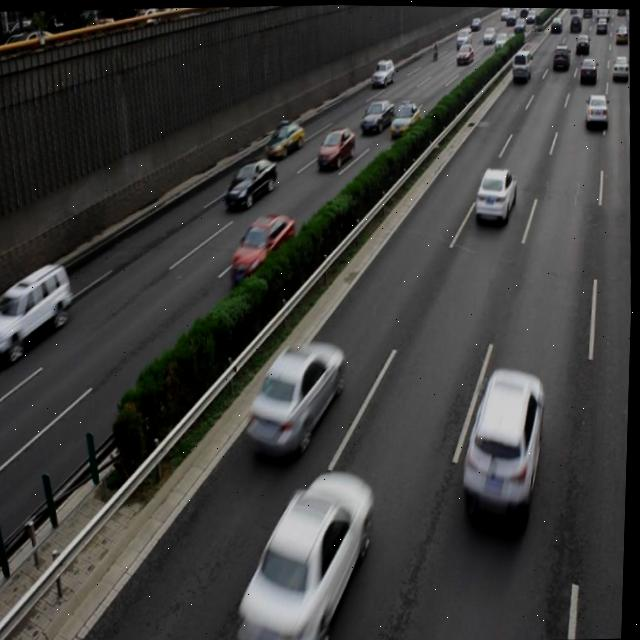car: (233, 461, 379, 640), (460, 364, 549, 513), (247, 337, 348, 452), (0, 259, 75, 362), (231, 208, 299, 289), (224, 154, 277, 206), (473, 163, 517, 221), (263, 116, 305, 158), (316, 124, 357, 167), (387, 100, 421, 135), (359, 97, 393, 132), (583, 90, 607, 124)
